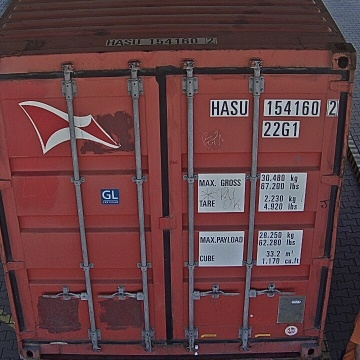serial_id: (211, 99, 337, 116)
